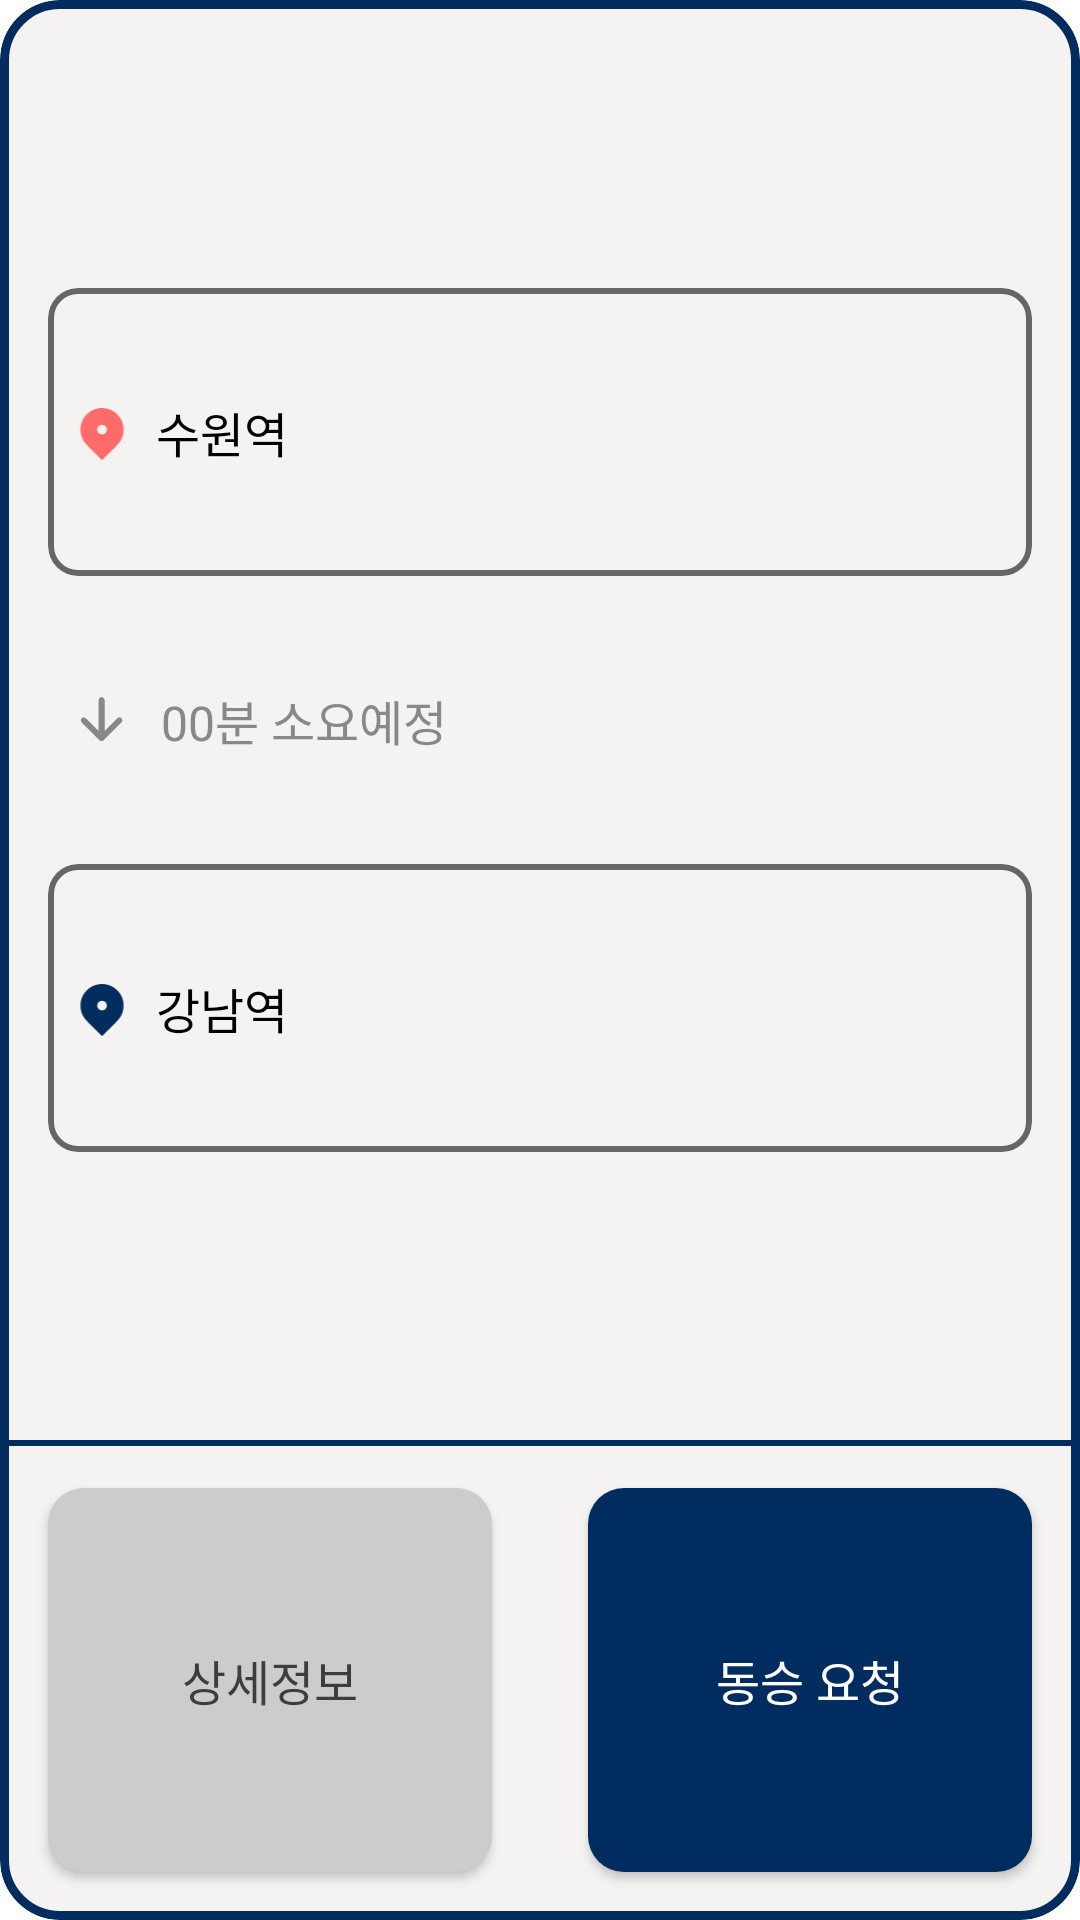

Screen size 1080 x 1920. Icon name, then its box in pixels as (x1, y1, x2, y2):
destination location: (80, 984, 124, 1036)
start location: (80, 408, 124, 460)
